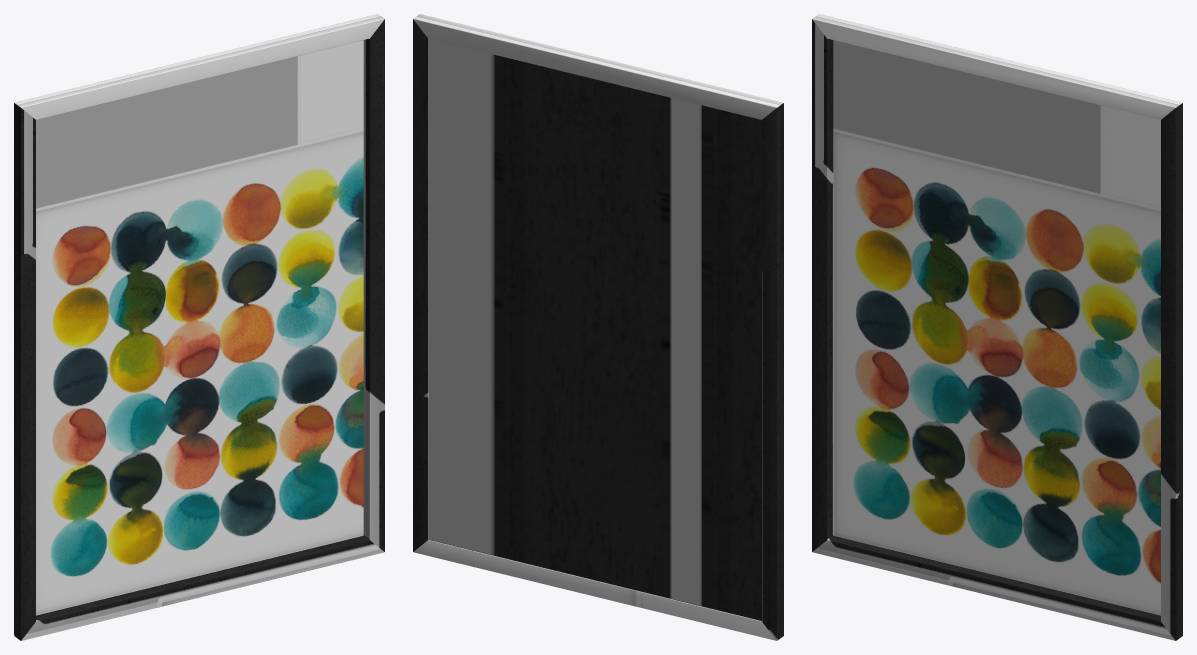
Rendered from Abstract II Framed Wall Art Print, Black & White.fbx.
The picture shows the model from 3 angles, left to right: view 1: azimuth 30°, elevation 25°; view 2: azimuth 150°, elevation 25°; view 3: azimuth 330°, elevation 25°; orthographic projection.
Visible parts, largest first — view 1: PRINT001, FRAME001; view 2: PRINT001, FRAME001; view 3: PRINT001, FRAME001.
Part boxes in pixels (x1=…): PRINT001: x1=36, y1=40, x2=363, y2=615; FRAME001: x1=14, y1=14, x2=384, y2=640; PRINT001: x1=429, y1=39, x2=761, y2=620; FRAME001: x1=413, y1=14, x2=783, y2=640; PRINT001: x1=833, y1=40, x2=1160, y2=615; FRAME001: x1=812, y1=14, x2=1182, y2=640.
Size of the model in its own units: 30 by 42 by 0.9996.
